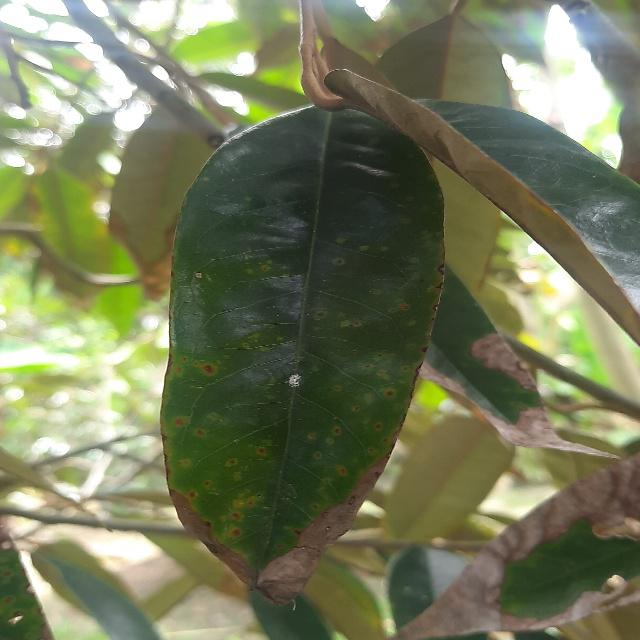Leaf Spot: (155, 99, 449, 624)
